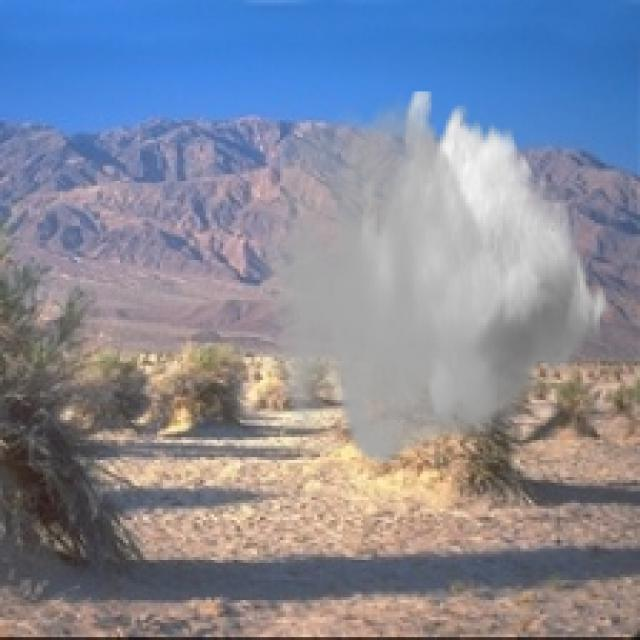Smoke: (257, 91, 612, 472)
